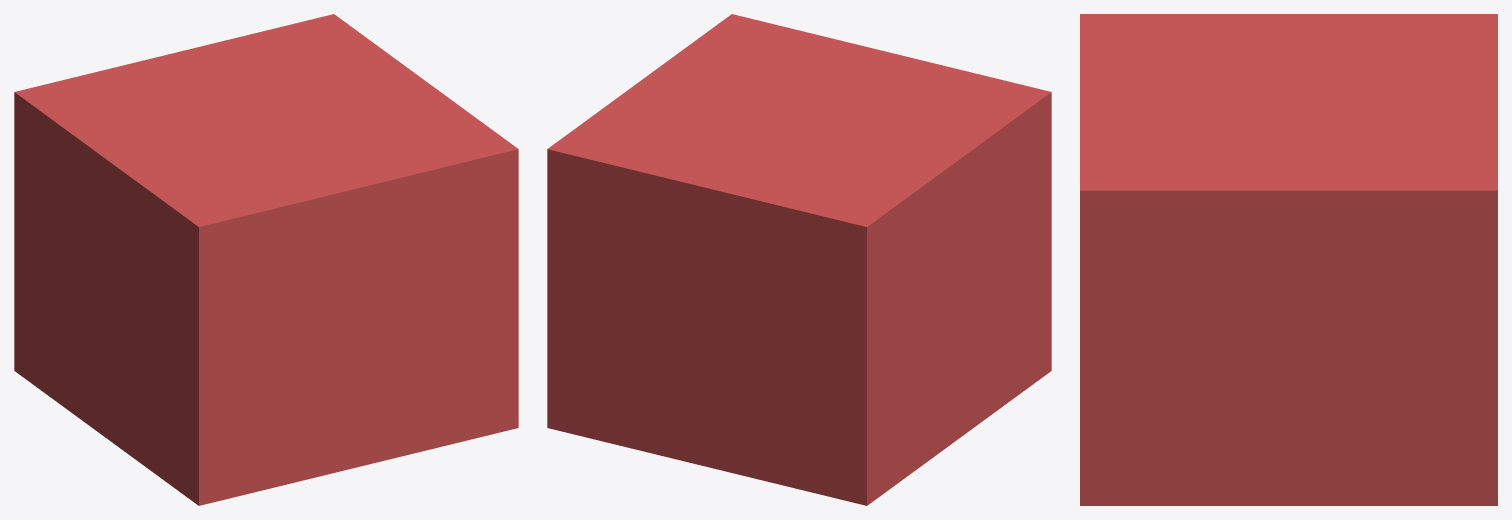
The model's file is red_target.fbx.
3 views of the same model, side by side, from view 1: azimuth 30°, elevation 25°; view 2: azimuth 150°, elevation 25°; view 3: azimuth 270°, elevation 25° (orthographic). The views are drawn at different scales.
Parts seen in each view (by area): view 1: Body1; view 2: Body1; view 3: Body1.
Boxes of the visible parts, x1,y1,x2,y2 form: Body1: [14, 14, 518, 505]; Body1: [547, 14, 1051, 505]; Body1: [1080, 14, 1497, 505].
Bounding box in the file's own units: 0.6 × 0.5 × 0.6.
